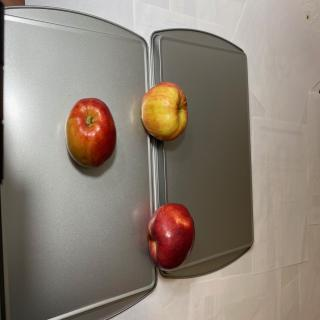Apple: (65, 98, 116, 168), (147, 203, 195, 272), (141, 81, 188, 141)
